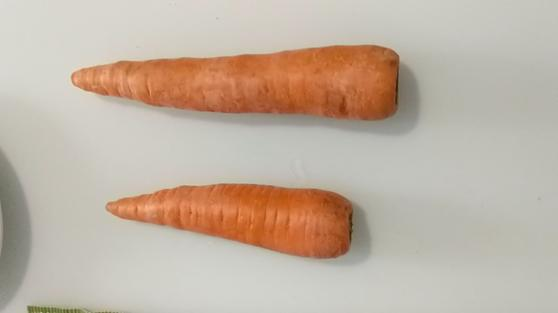carrot: (63, 43, 406, 123), (108, 182, 357, 261)
